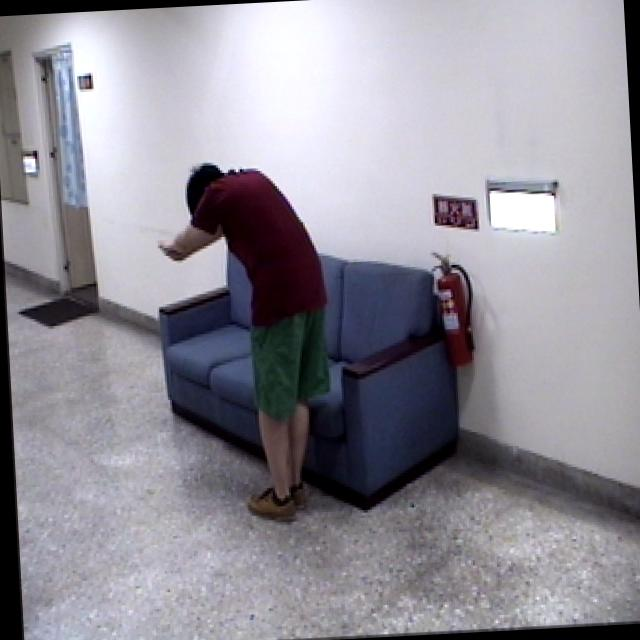bend: (144, 148, 348, 534)
